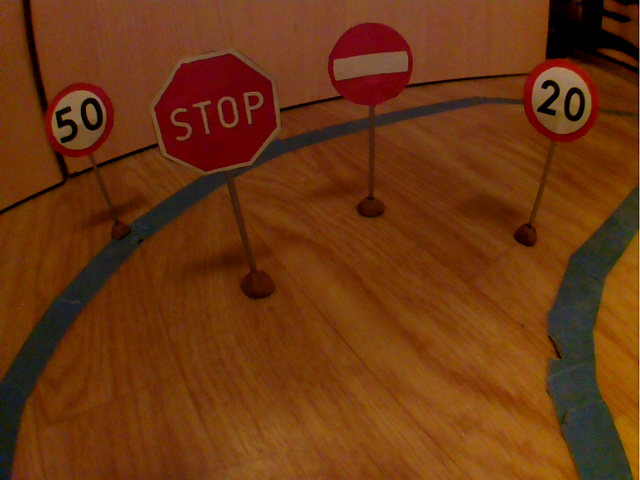Ograniczenie 20: (517, 55, 604, 145)
Ograniczenie 50: (42, 79, 119, 162)
Stop: (144, 43, 285, 183)
Zakaz: (324, 17, 417, 111)
